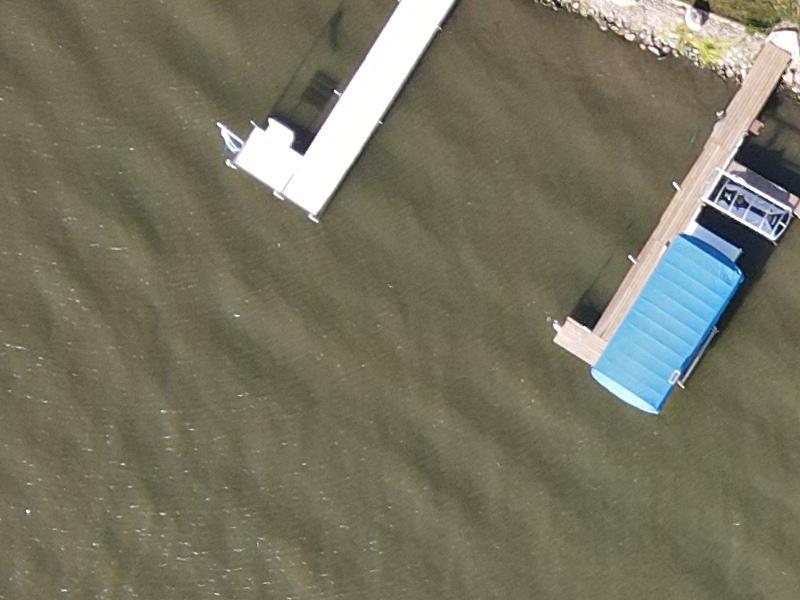boat: (550, 29, 790, 364), (226, 1, 499, 218)
lift: (590, 222, 760, 416)
